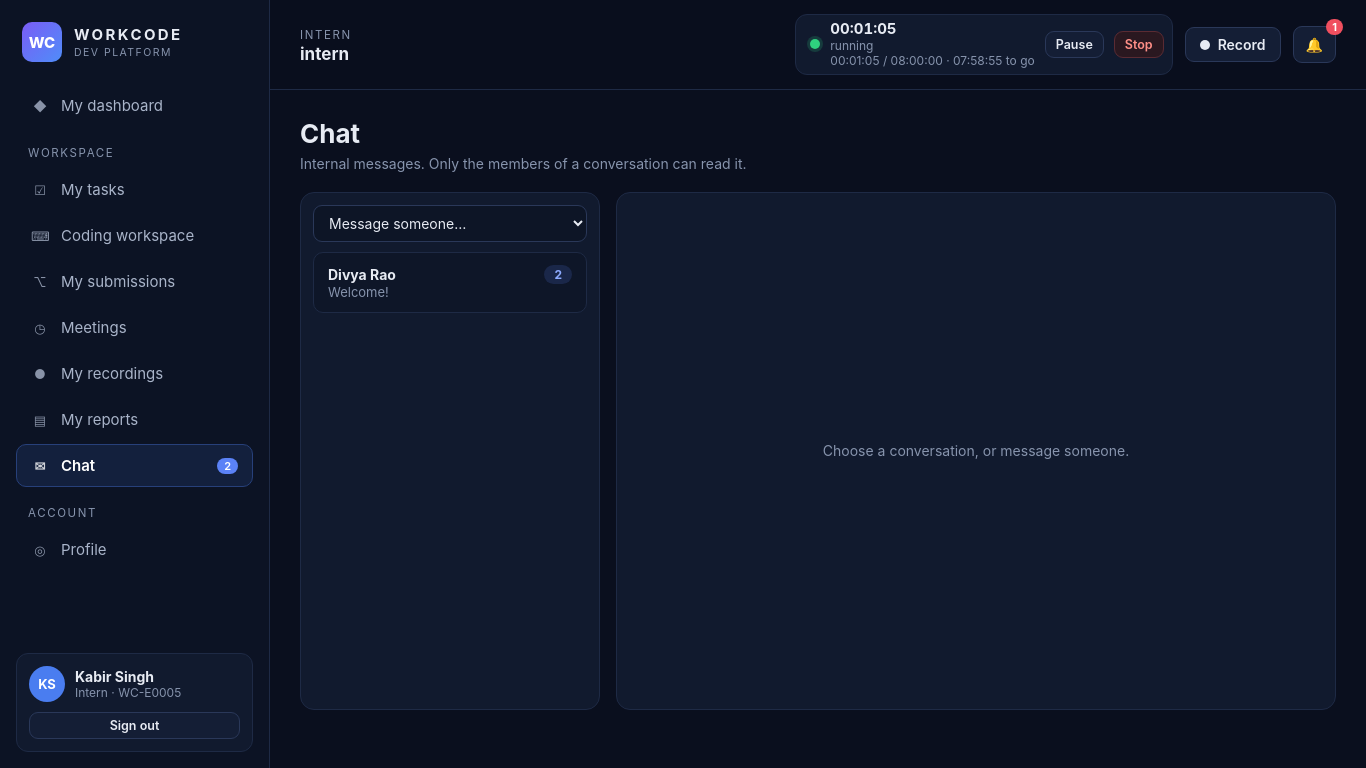
Test: communication, recordings and reports pages › chat lists conversations, opens one and sends a message
The width and height of the screenshot is (1366, 768).
Later steps or results of the test are not shown.
Step 1. Click the text "Divya Rao" → (362, 274), box [328, 266, 396, 282]
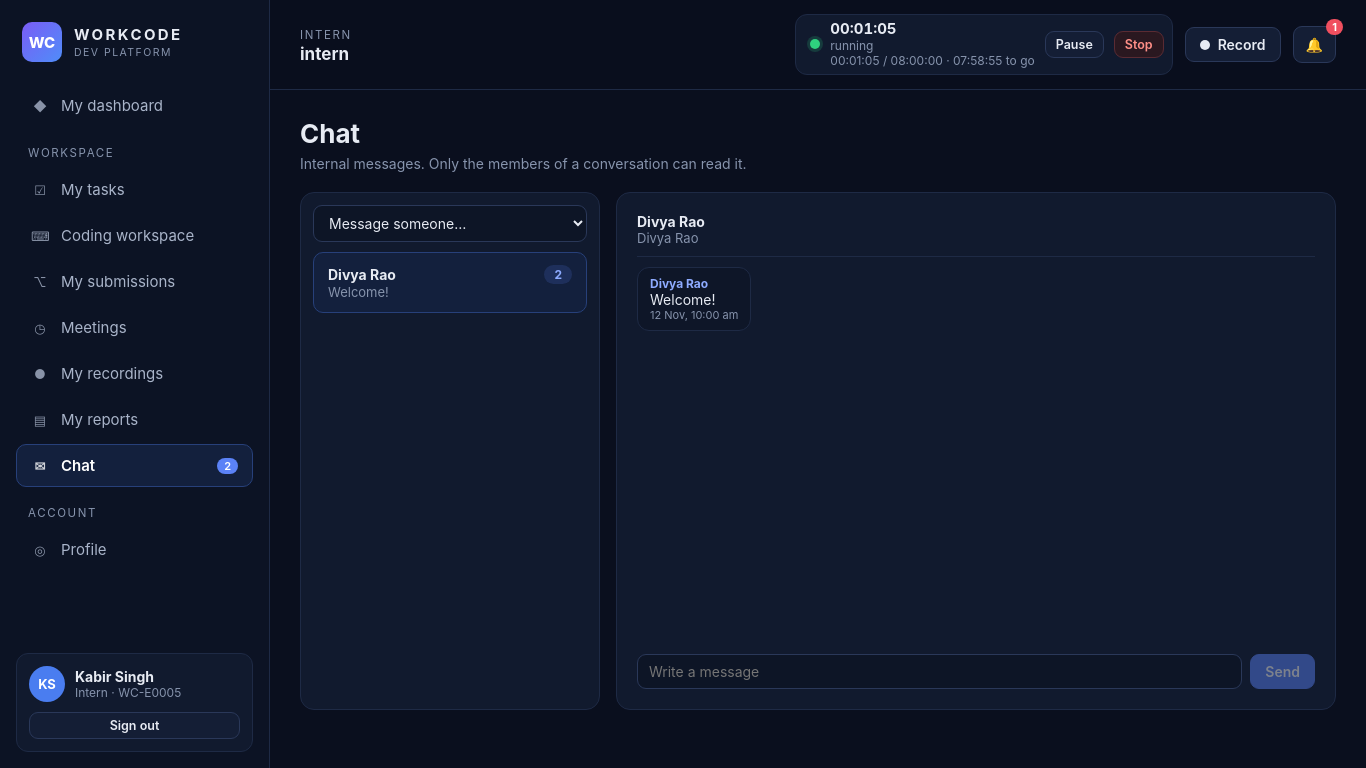
expect the 2nd text "Welcome!" is shown: met, box [650, 290, 716, 308]
